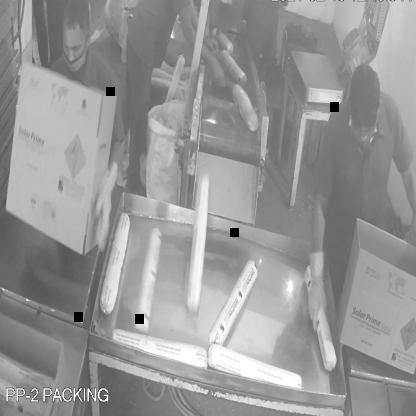glove: (87, 165, 123, 260), (306, 235, 330, 340), (406, 198, 416, 288)
no_glove: (176, 7, 230, 95)
